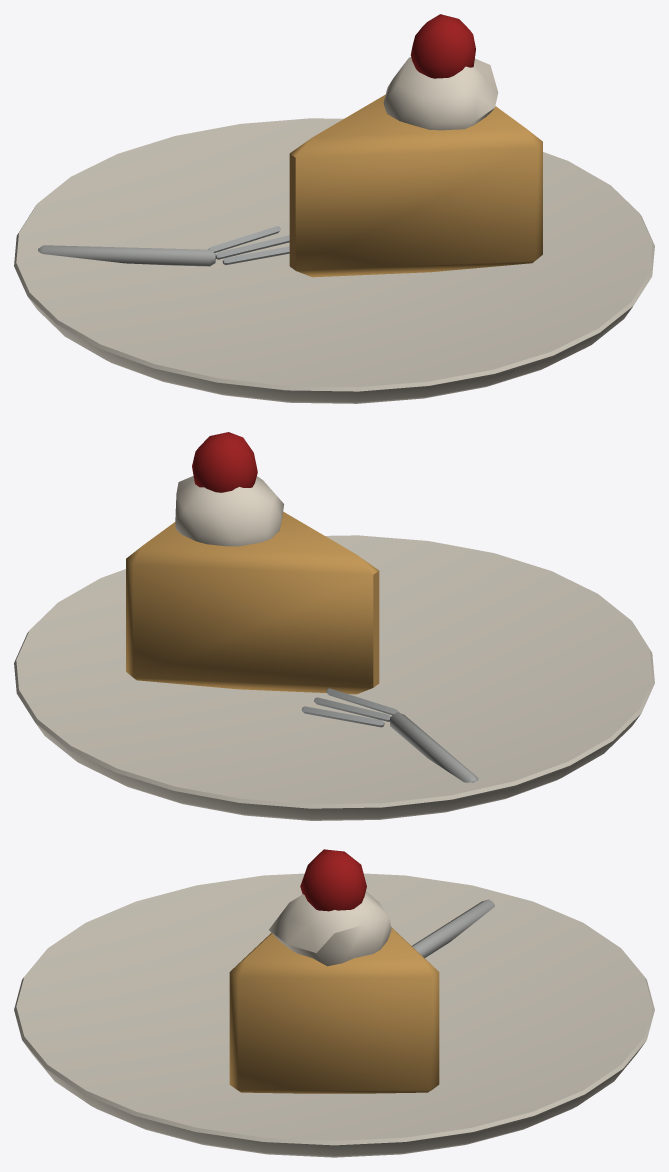
File: cake_plate.glb
3 views of the same model, one above another, from view 1: azimuth 30°, elevation 25°; view 2: azimuth 150°, elevation 25°; view 3: azimuth 270°, elevation 25° (orthographic).
Visible parts, largest first — view 1: Sammel Glatt, Sammel Stoff; view 2: Sammel Glatt, Sammel Stoff; view 3: Sammel Glatt, Sammel Stoff.
Boxes of the visible parts, box(x1,y1,x2,y2) form: Sammel Glatt: box(14, 14, 654, 403); Sammel Stoff: box(289, 94, 542, 277); Sammel Glatt: box(14, 432, 654, 820); Sammel Stoff: box(126, 511, 379, 694); Sammel Glatt: box(14, 849, 654, 1157); Sammel Stoff: box(229, 927, 439, 1093).
Bounding box in the file's own units: 0.2083 × 0.0948 × 0.2083.
